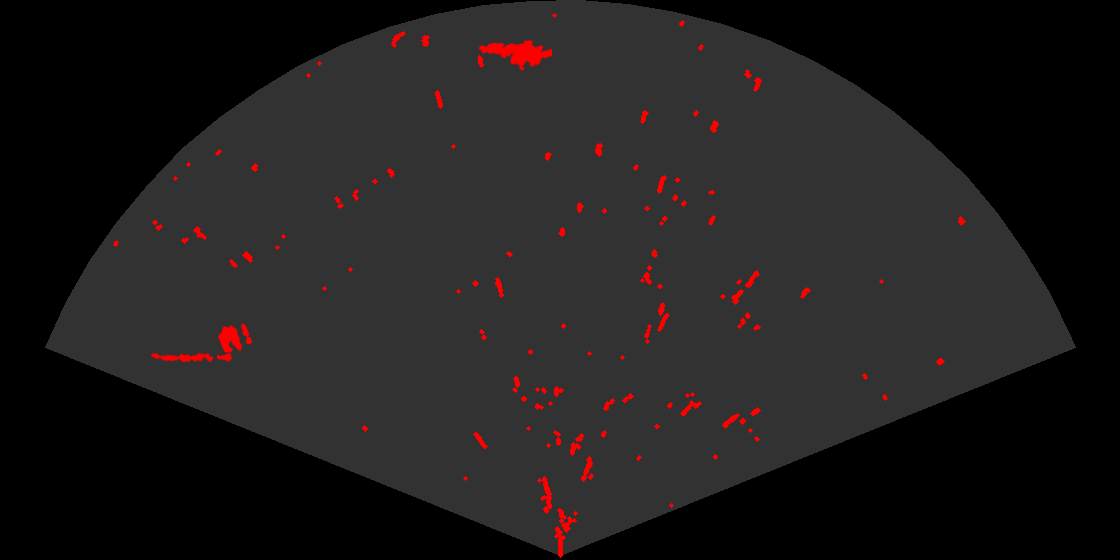ball: (217, 322, 254, 356)
chain: (149, 351, 232, 364)
frogman: (477, 38, 552, 72)
